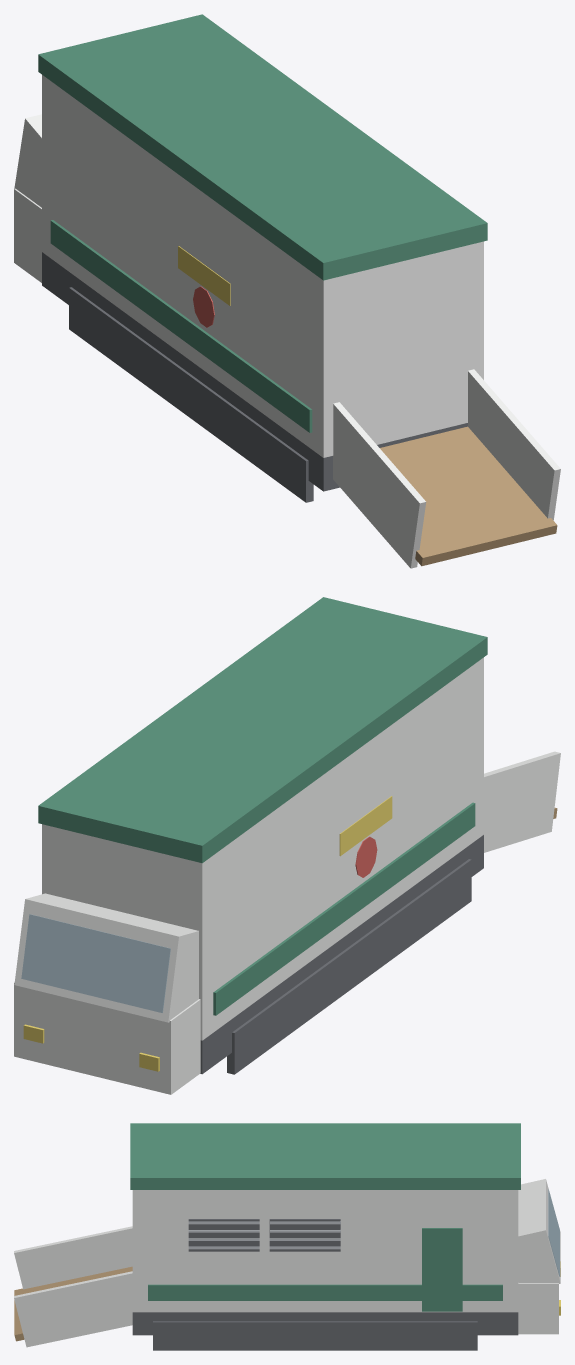
The model's file is racecourse-and-parade-ring-horsebox-body-ac657c15__38638.glb.
3 views of the same model, one above another, from view 1: azimuth 30°, elevation 25°; view 2: azimuth 150°, elevation 25°; view 3: azimuth 270°, elevation 25° (orthographic). The views are drawn at different scales.
Parts seen in each view (by area): view 1: horsebox-body; view 2: horsebox-body; view 3: horsebox-body.
Part boxes in pixels (x1,y1,x2,y2): horsebox-body: (14, 14, 560, 568); horsebox-body: (14, 597, 560, 1094); horsebox-body: (14, 1123, 560, 1350).
Bounding box in the file's own units: 2.6 × 3.77 × 10.78.
